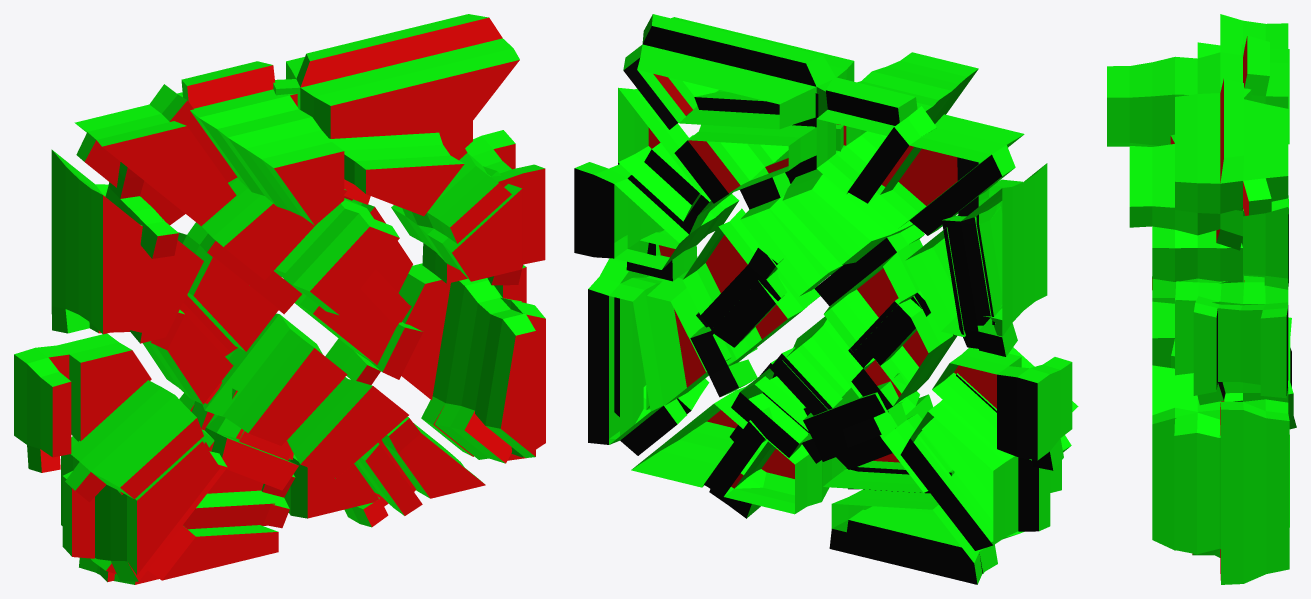
Rendered from my_city.obj.
The picture shows the model from 3 angles, left to right: view 1: azimuth 30°, elevation 25°; view 2: azimuth 150°, elevation 25°; view 3: azimuth 270°, elevation 25°; orthographic projection. The views are drawn at different scales.
Visible parts, largest first — view 1: up, vertical; view 2: vertical, down, up; view 3: vertical, up, down.
Boxes of the visible parts, x1,y1,x2,y2 form: up: (40, 17, 545, 584); vertical: (14, 14, 545, 584); vertical: (575, 14, 1078, 584); down: (574, 26, 1053, 584); up: (648, 74, 996, 488); vertical: (1107, 14, 1296, 584); up: (1152, 36, 1248, 580); down: (1216, 208, 1294, 420).
Bounding box in the file's own units: 114 × 108 × 41.88.
